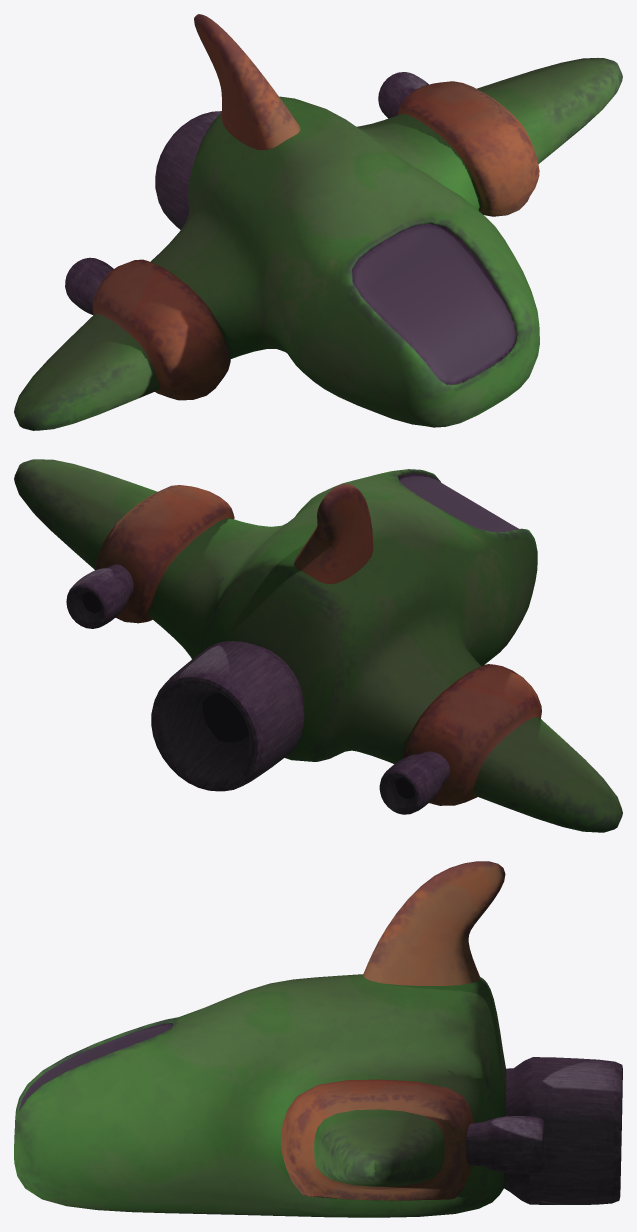
The model's file is Spaceship.glb.
The picture shows the model from 3 angles, top to bottom: view 1: azimuth 30°, elevation 25°; view 2: azimuth 150°, elevation 25°; view 3: azimuth 270°, elevation 25°; orthographic projection. The views are drawn at different scales.
Visible parts, largest first — view 1: SHIP; view 2: SHIP; view 3: SHIP.
Part boxes in pixels (bbox=[...]): SHIP: bbox=[14, 14, 622, 430]; SHIP: bbox=[14, 459, 622, 832]; SHIP: bbox=[14, 861, 622, 1217].
Bounding box in the file's own units: 0.5889 × 0.299 × 0.4688.
1 material, 1 textured.
